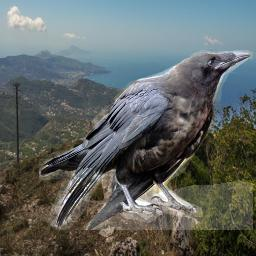Crow: (39, 50, 253, 230)
